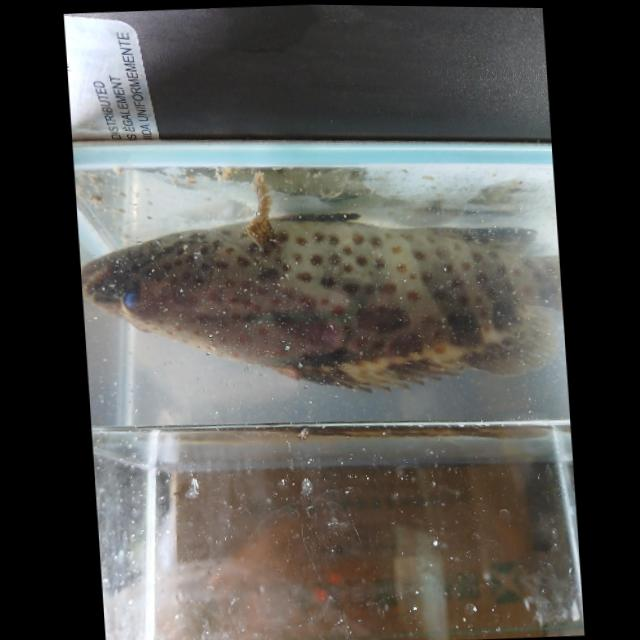Groupers: (77, 194, 569, 409)
